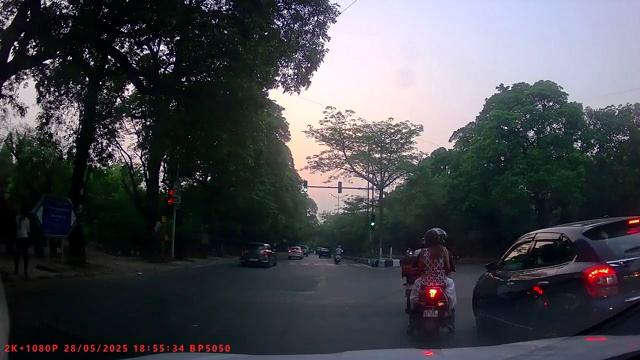passenger_with_helmet: (397, 223, 462, 344)
